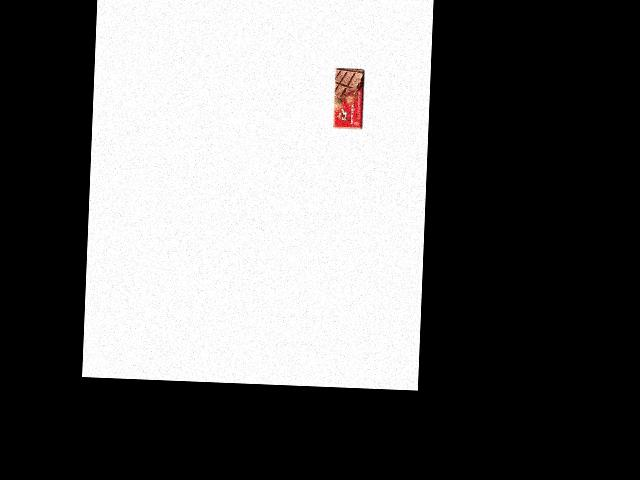chocolate: (331, 66, 365, 130)
